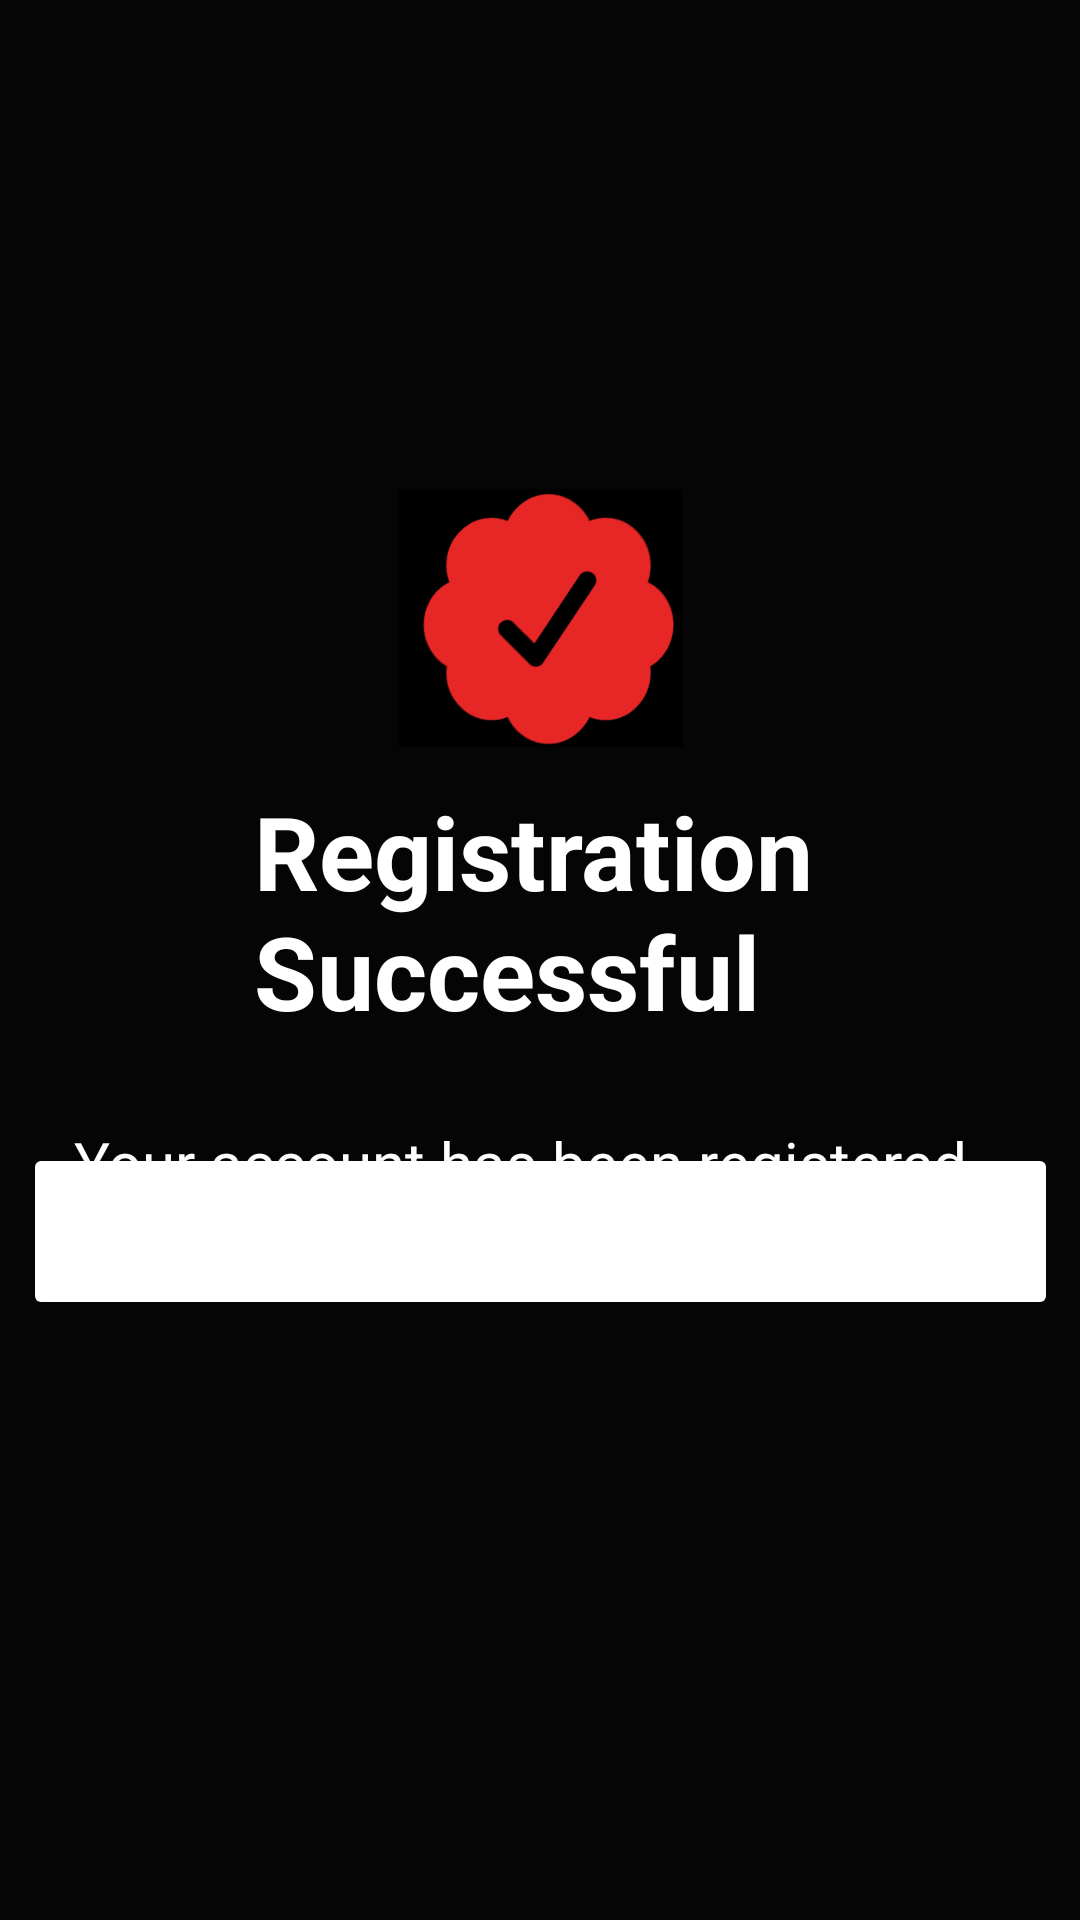

Point at icon controls on the screen. Image size 1080 x 1920, points as point (x, y).
registersuccess: point (548, 619)
